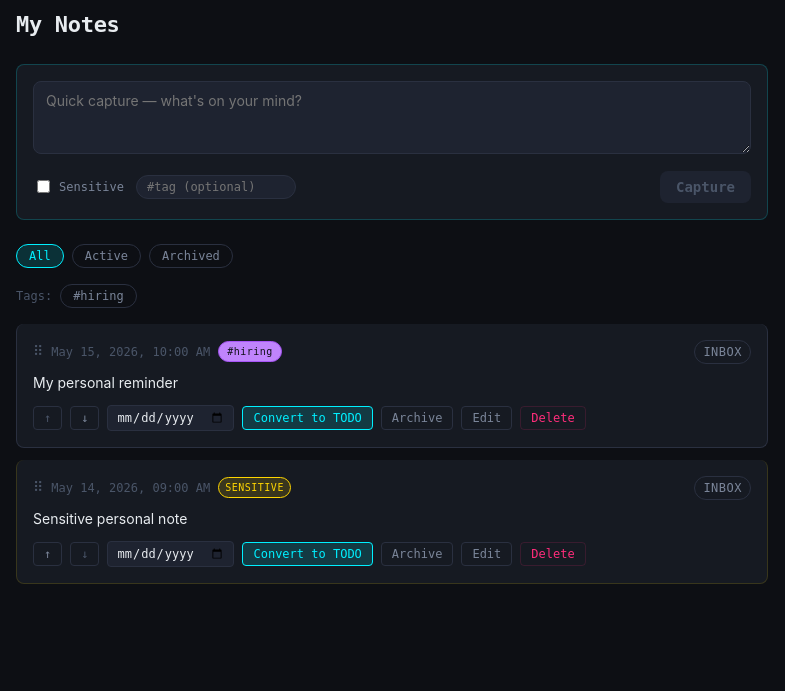
it: MyNotesPage › should enter edit mode when the edit button is clicked
Expected: the element with test id "my-note-card-note-1" is shown, [16, 324, 768, 448]
Click the button with test id "my-note-edit-btn" below "May 15, 2026, 10:00 AM" at (487, 418), box [461, 406, 512, 430]
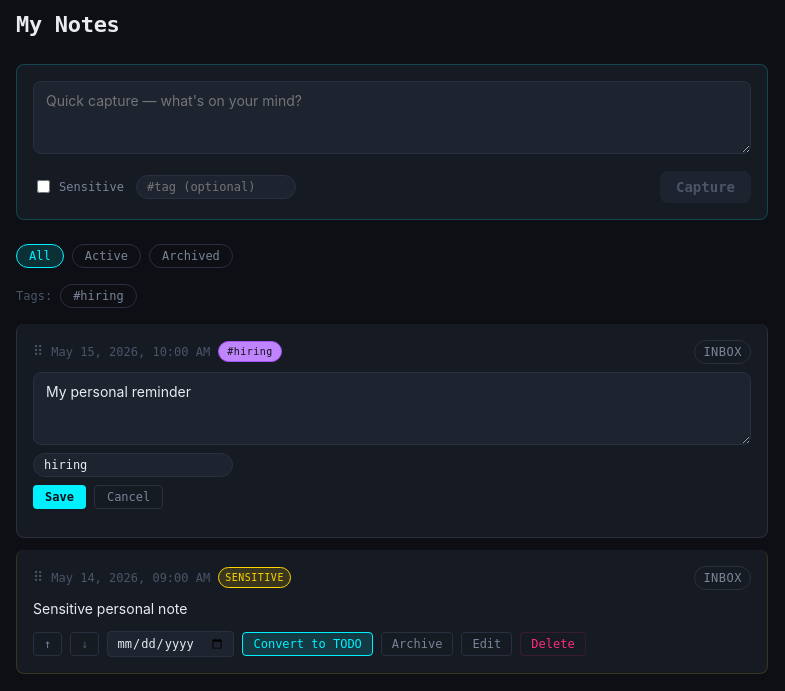
Expected: the text box with test id "my-note-edit-text-input" holds "My personal reminder", [33, 372, 751, 445]
Expected: the field with test id "my-note-edit-tag-input" holds "hiring", [33, 453, 233, 477]
